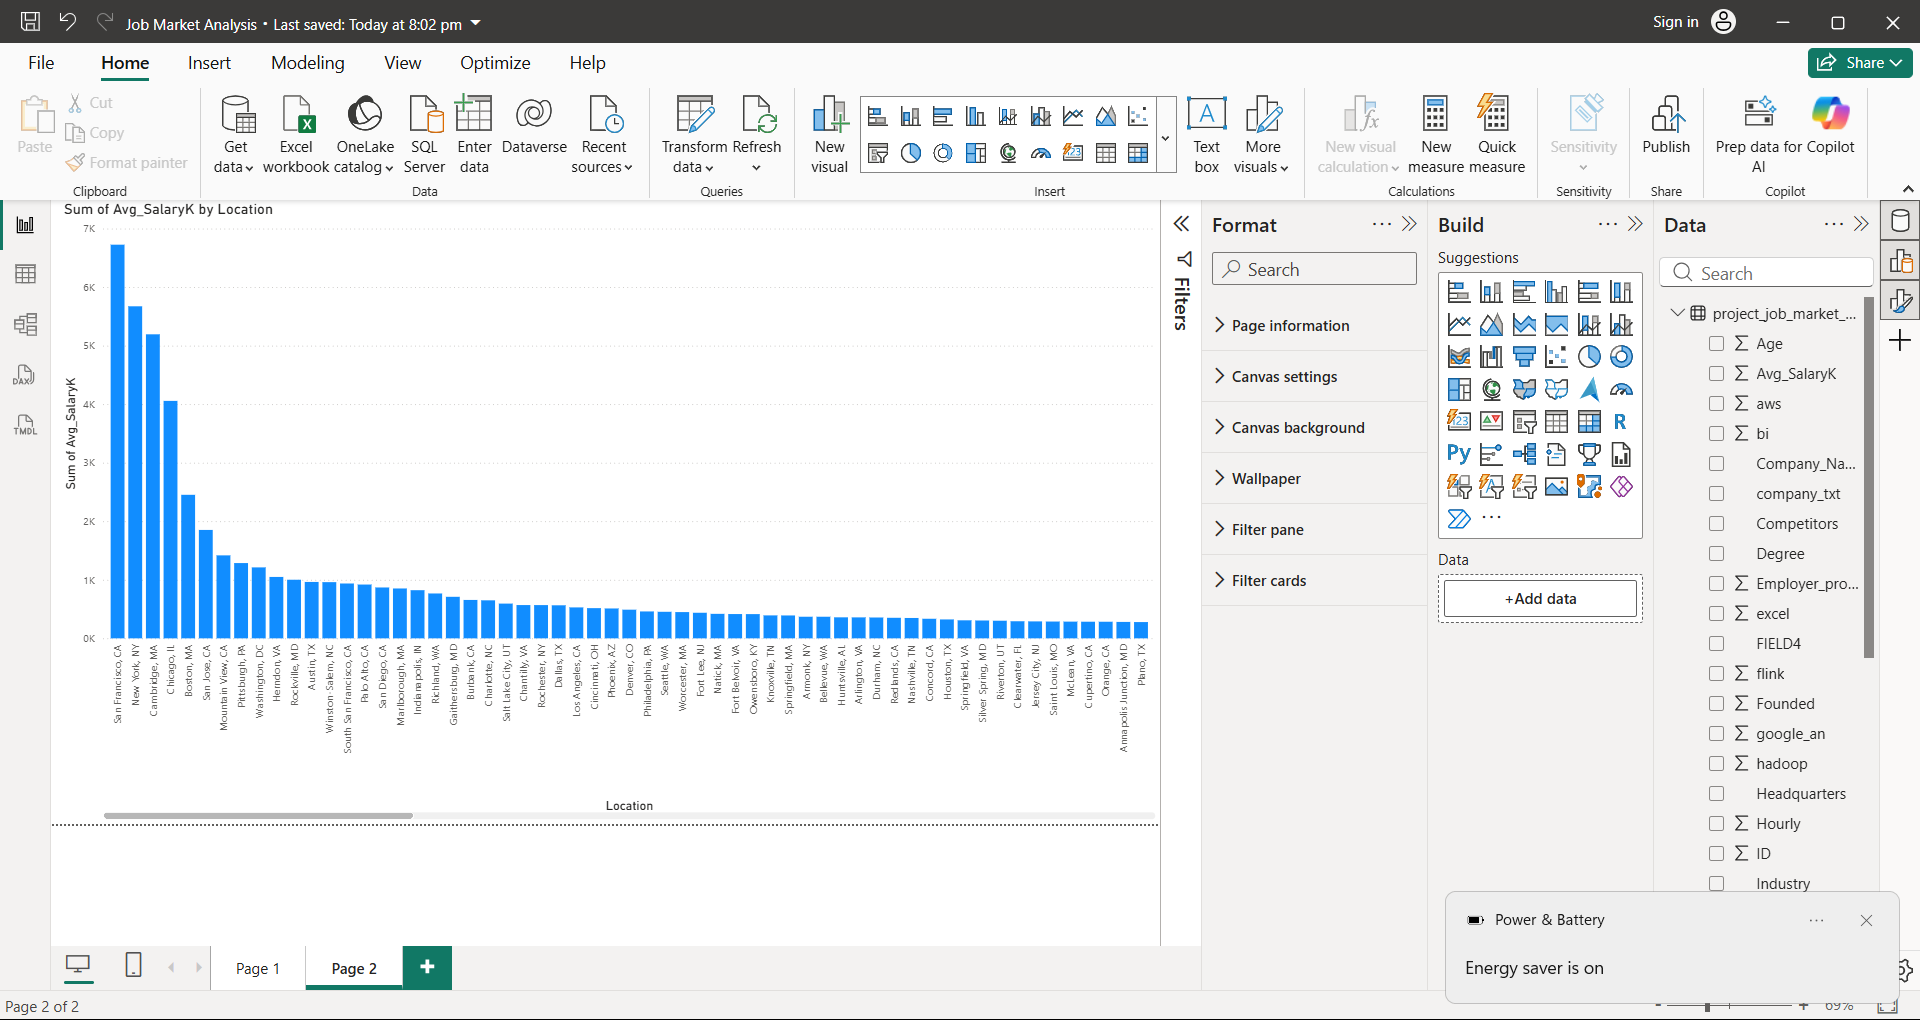

The dashboard page shown, as its layout file describes it:
{"tool":"powerbi","page":{"name":"Page 4","canvas":[1280,720],"ordinal":2},"visuals":[{"type":"clusteredColumnChart","fields":{"Category":["project_job_market_analysis Market.Location"],"Y":["Sum(project_job_market_analysis Market.Avg_SalaryK)"]},"box":[10.1,0,1269.6,719.9],"z":0}]}

Visuals, with their boxes on the page's 1280x720 design canvas (x1, y1, x2, y2). These are canvas units, not pixel positions in the 1920x1020 screenshot, which may show the page scaled, cropped or inside an application window:
clusteredColumnChart - project_job_market_analysis Market.Location x Sum(project_job_market_analysis Market.Avg_SalaryK): detection(10, 0, 1280, 720)
